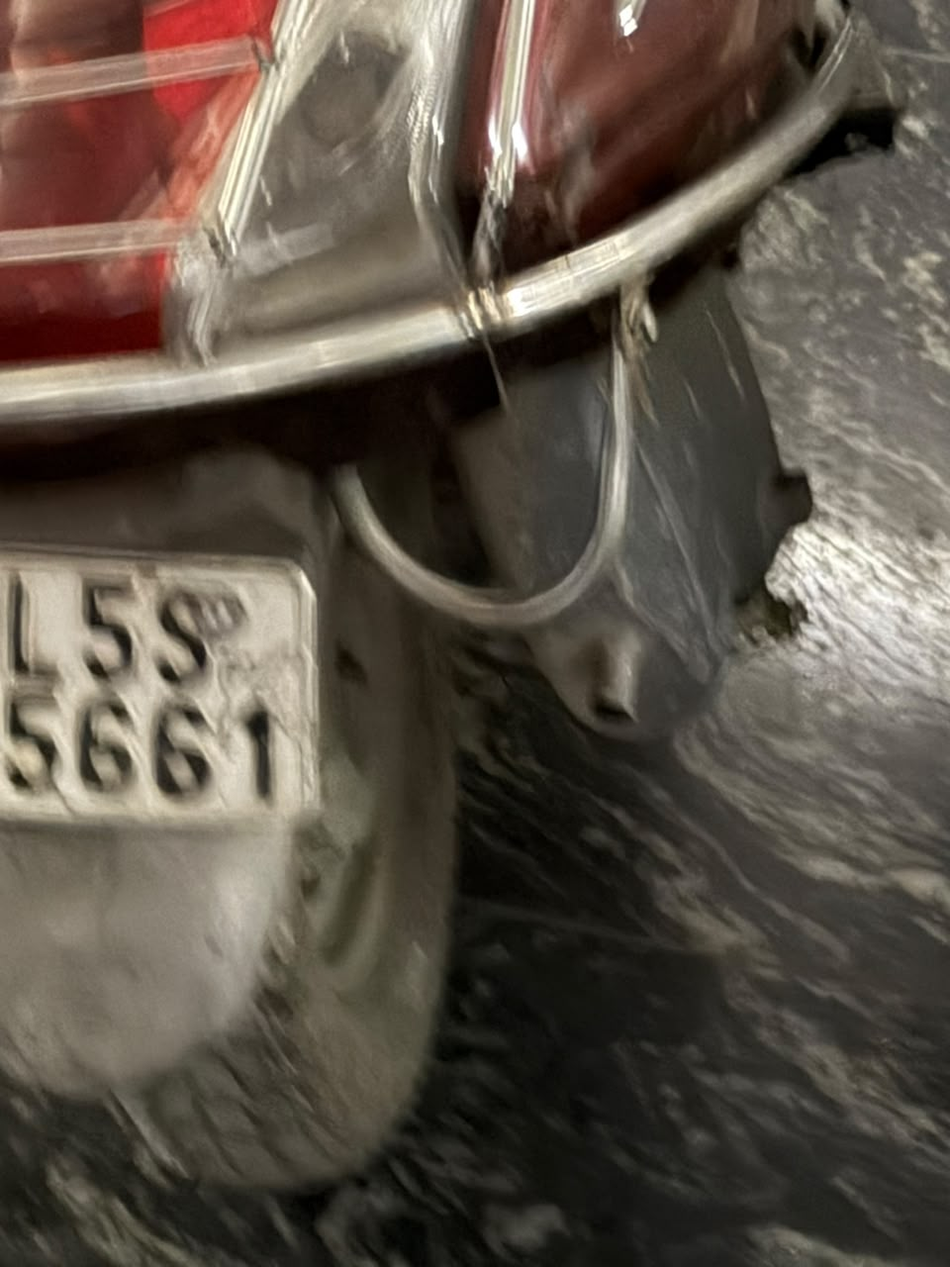vehicle: (2, 546, 313, 829)
